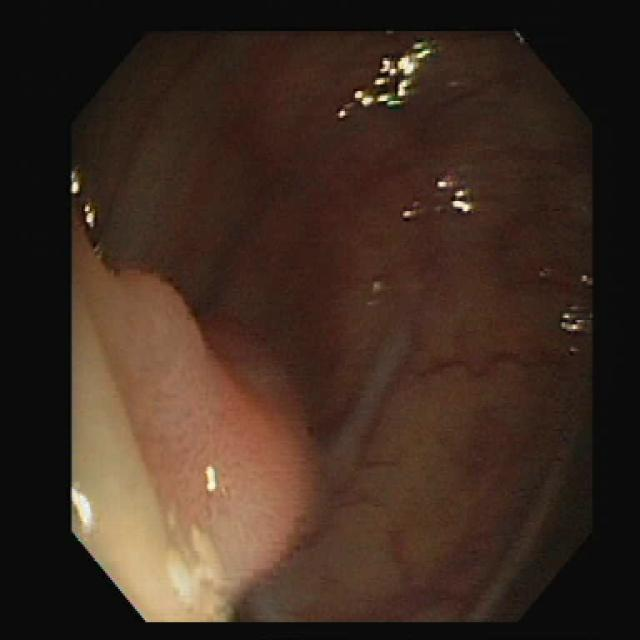tumor: (73, 198, 313, 620)
